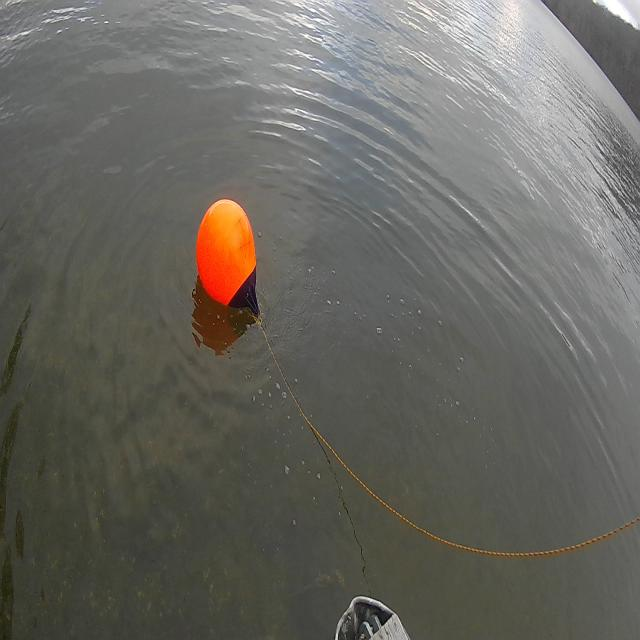Buoy: (185, 183, 271, 341)
